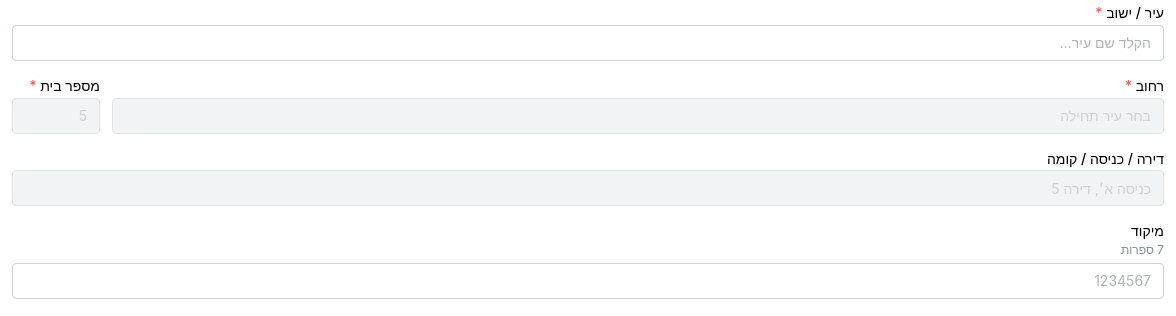
Test: AddressAutocomplete › selecting a city enables street, house number, and apartment fields
Type "תל אביב - יפו" into the field labelled "עיר / ישוב *" at coordinates (588, 43), box 12,25 -> 1164,61
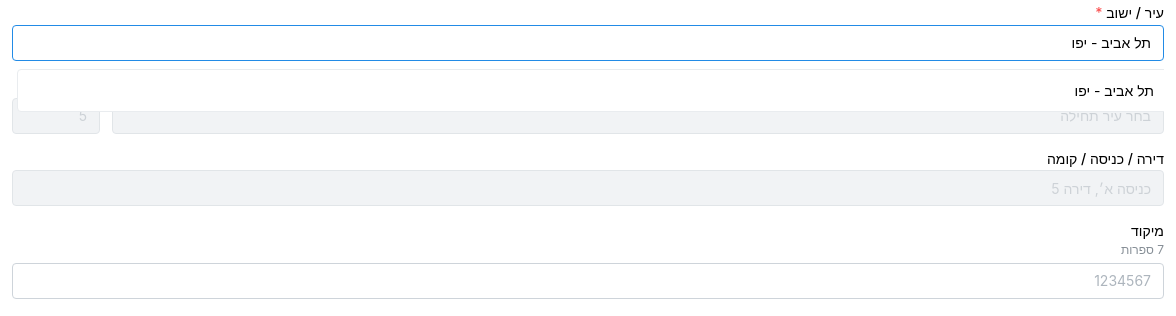
Expected: the option "תל אביב - יפו" is shown
Click the option "תל אביב - יפו" at coordinates (1114, 90), box 1074,82 -> 1154,99
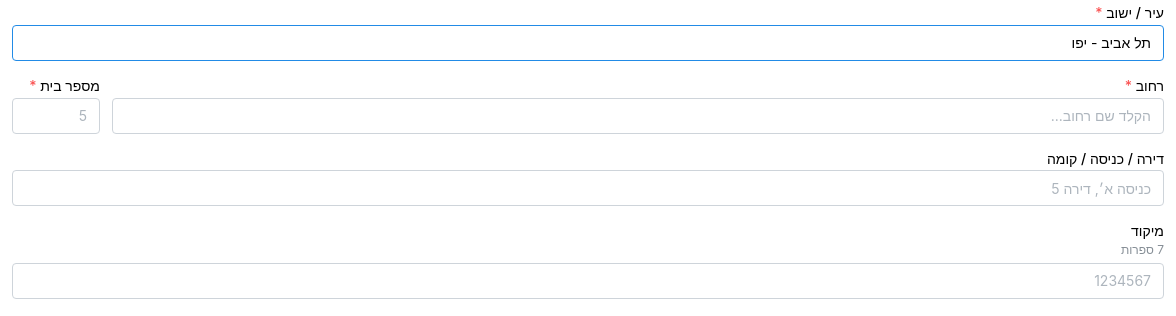
Expected: the field labelled "מספר בית *" is enabled, 12,98 -> 100,134
Expected: the field labelled "רחוב *" is enabled, 112,98 -> 1164,134
Expected: the field labelled "דירה / כניסה / קומה" is enabled, 12,170 -> 1164,206
